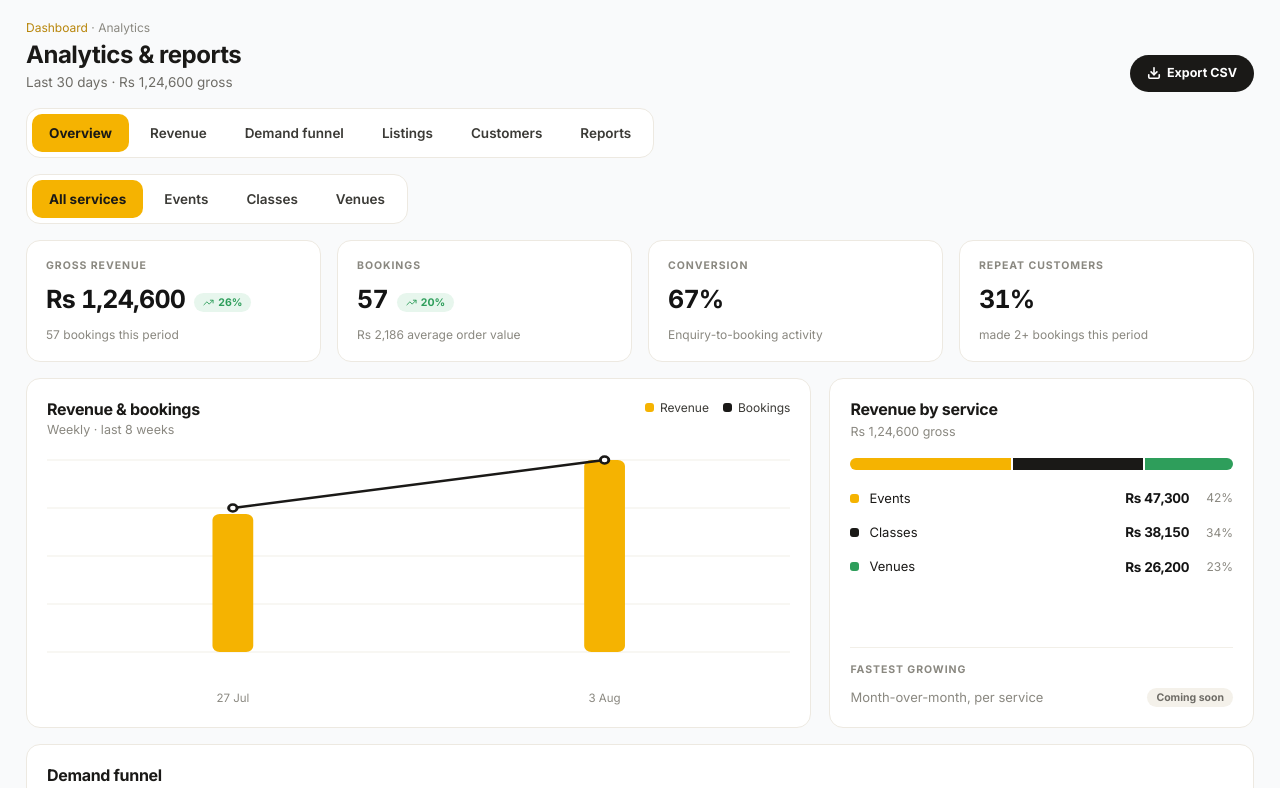
Scenario: Analytics — Overview tab (stats/overview-all/) › re-scopes to a single service and swaps in revenue-by-listing
Expected: the text "Revenue by service" is shown, top-left (850, 399), bottom-right (998, 419)
Step 1. Click the tab "Venues" → {"x": 360, "y": 199}, box top-left (319, 180), bottom-right (402, 218)
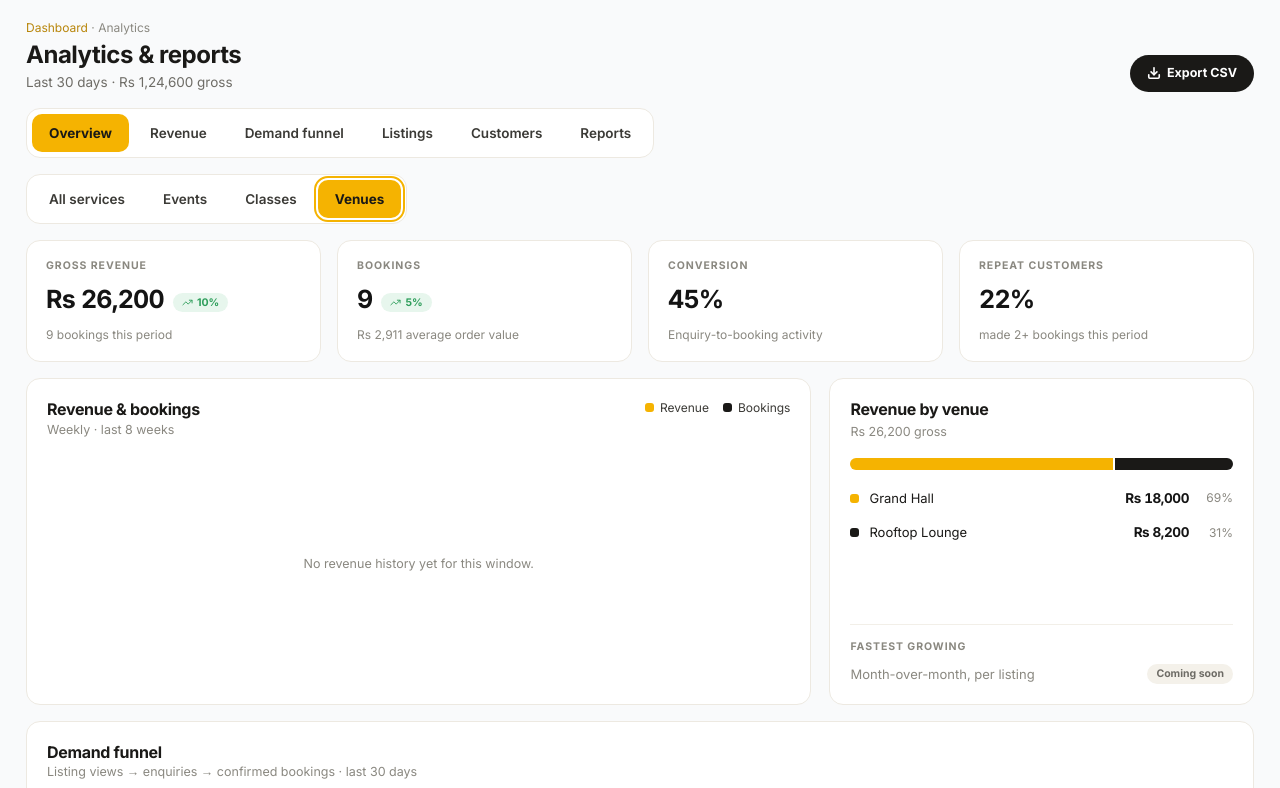
Now the text "Grand Hall" is shown, box top-left (869, 490), bottom-right (934, 506)
Now the text "Rooftop Lounge" is shown, box top-left (869, 524), bottom-right (967, 540)
Now the text "Revenue by venue" is shown, box top-left (850, 399), bottom-right (988, 419)
